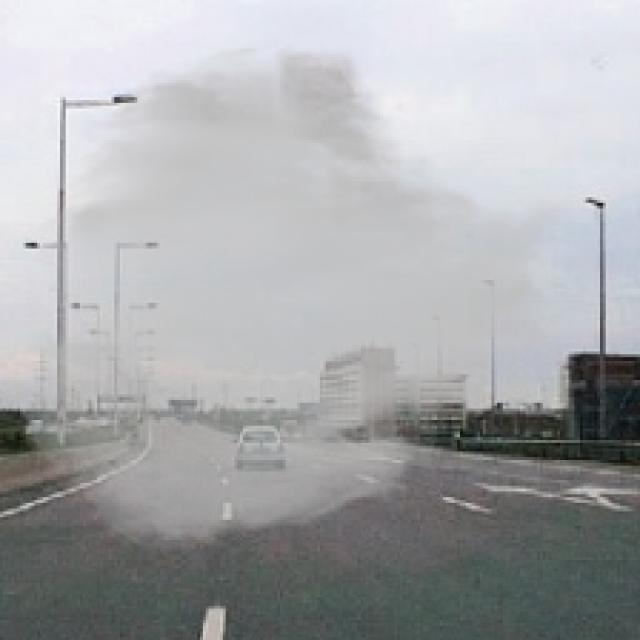Smoke: (12, 39, 574, 554)
